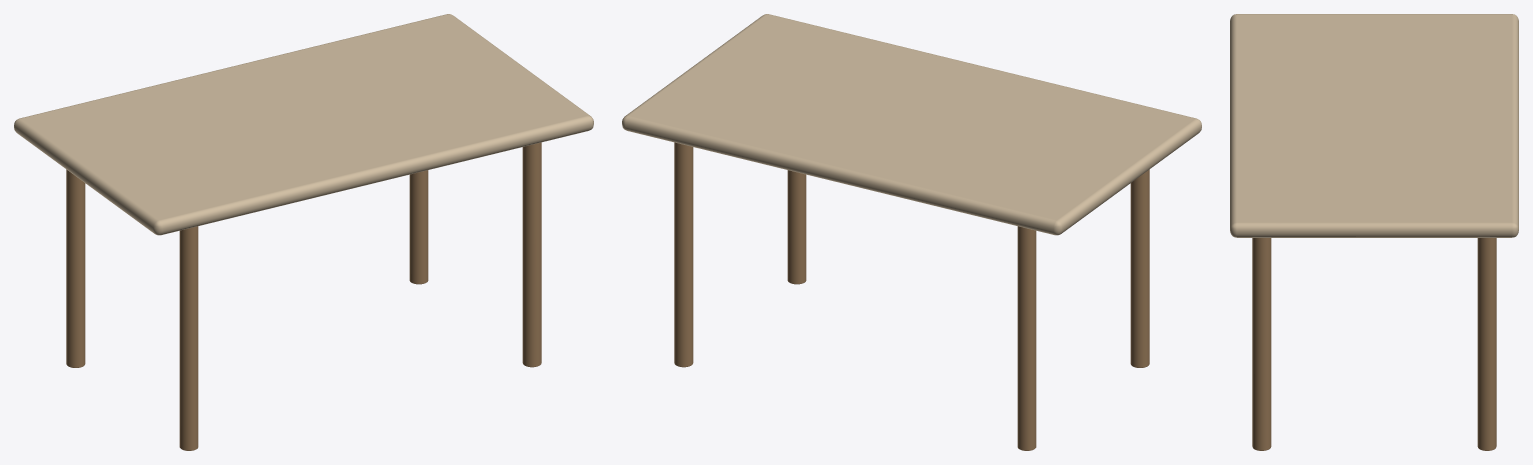
3 renders of one model, left to right at view 1: azimuth 30°, elevation 25°; view 2: azimuth 150°, elevation 25°; view 3: azimuth 270°, elevation 25°, orthographic.
Visible parts, largest first — view 1: tabletop, leg_-1_1, leg_1_1, leg_-1_-1, leg_1_-1; view 2: tabletop, leg_-1_-1, leg_1_-1, leg_-1_1, leg_1_1; view 3: tabletop, leg_1_-1, leg_1_1.
Part boxes in pixels (left/top/right/bottom): tabletop: left=14, top=14, right=593, bottom=235; leg_-1_1: left=179, top=226, right=198, bottom=450; leg_1_1: left=522, top=142, right=541, bottom=367; leg_-1_-1: left=66, top=169, right=85, bottom=367; leg_1_-1: left=409, top=170, right=428, bottom=284; tabletop: left=622, top=14, right=1201, bottom=235; leg_-1_-1: left=1017, top=226, right=1036, bottom=450; leg_1_-1: left=674, top=142, right=693, bottom=367; leg_-1_1: left=1130, top=169, right=1149, bottom=367; leg_1_1: left=787, top=170, right=806, bottom=284; tabletop: left=1230, top=14, right=1518, bottom=237; leg_1_-1: left=1477, top=238, right=1496, bottom=450; leg_1_1: left=1252, top=238, right=1271, bottom=450.
Size of the model in its own units: 1.4 by 0.75 by 0.8.
